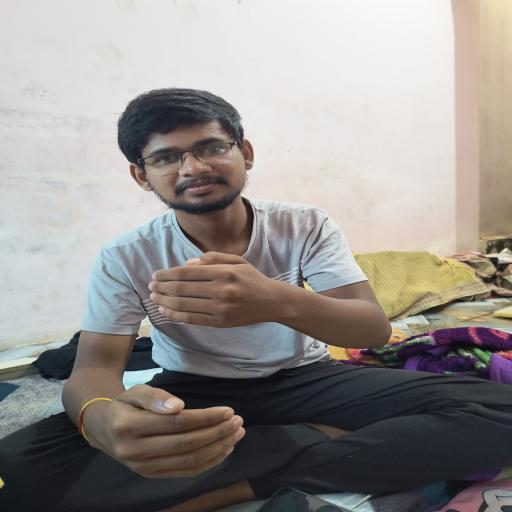Good: (94, 251, 293, 495)
